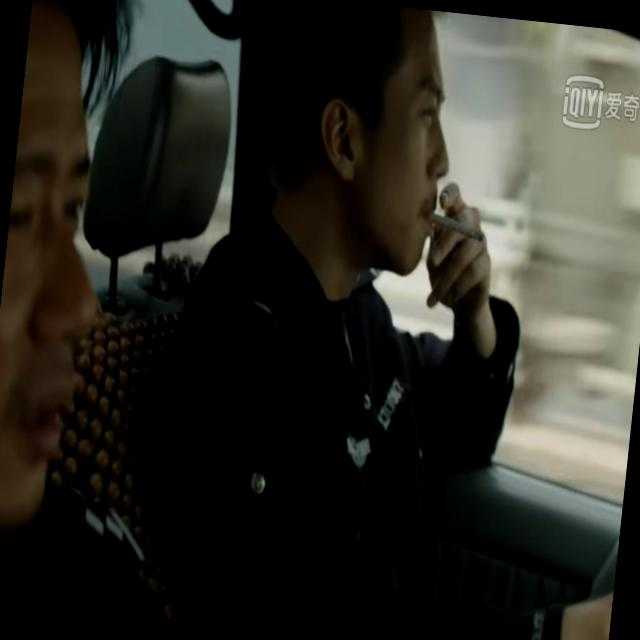smoke: (423, 203, 487, 248)
